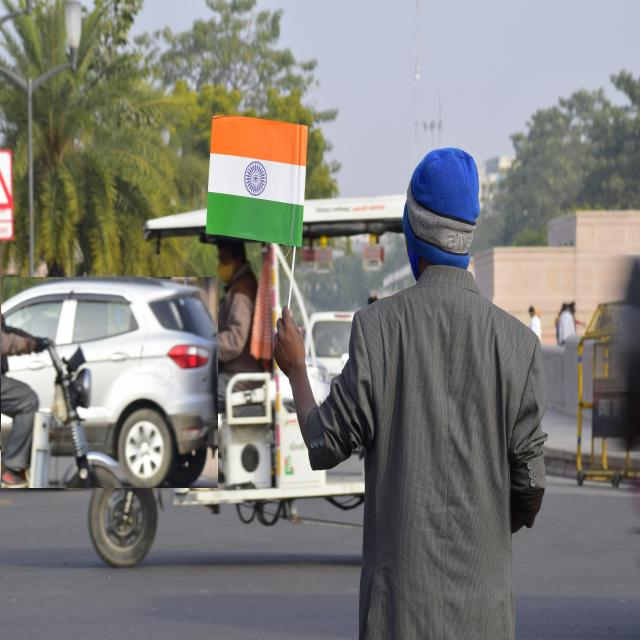autorickshaw: (87, 189, 413, 571)
car: (0, 277, 218, 488)
